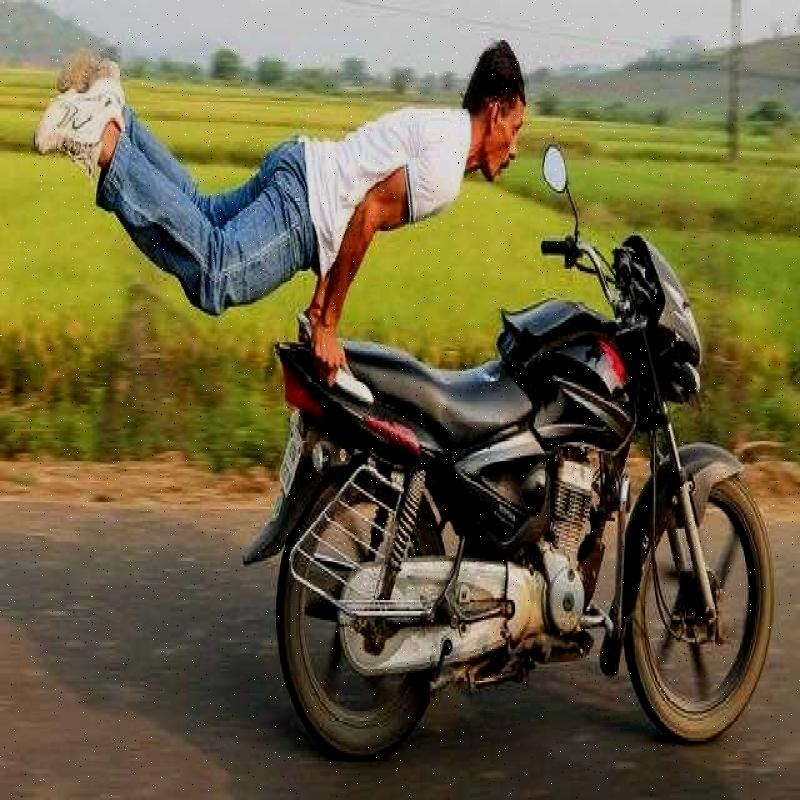bike: (247, 136, 779, 774)
